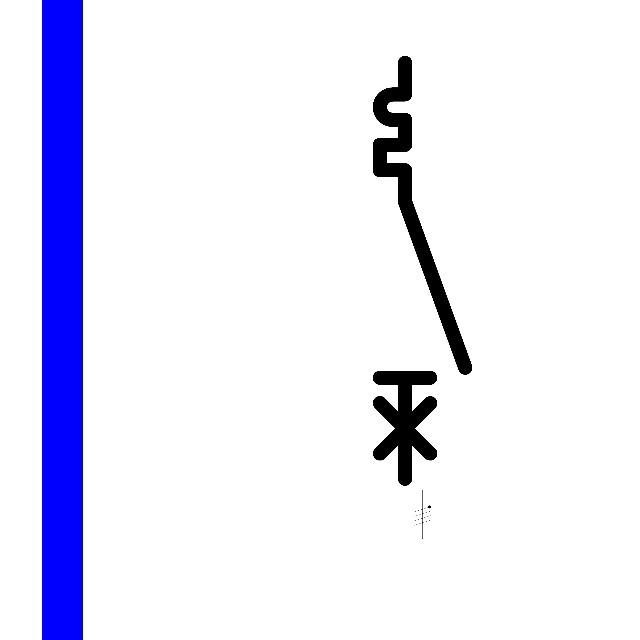interruptor_termomagnetico: (369, 52, 476, 489)
